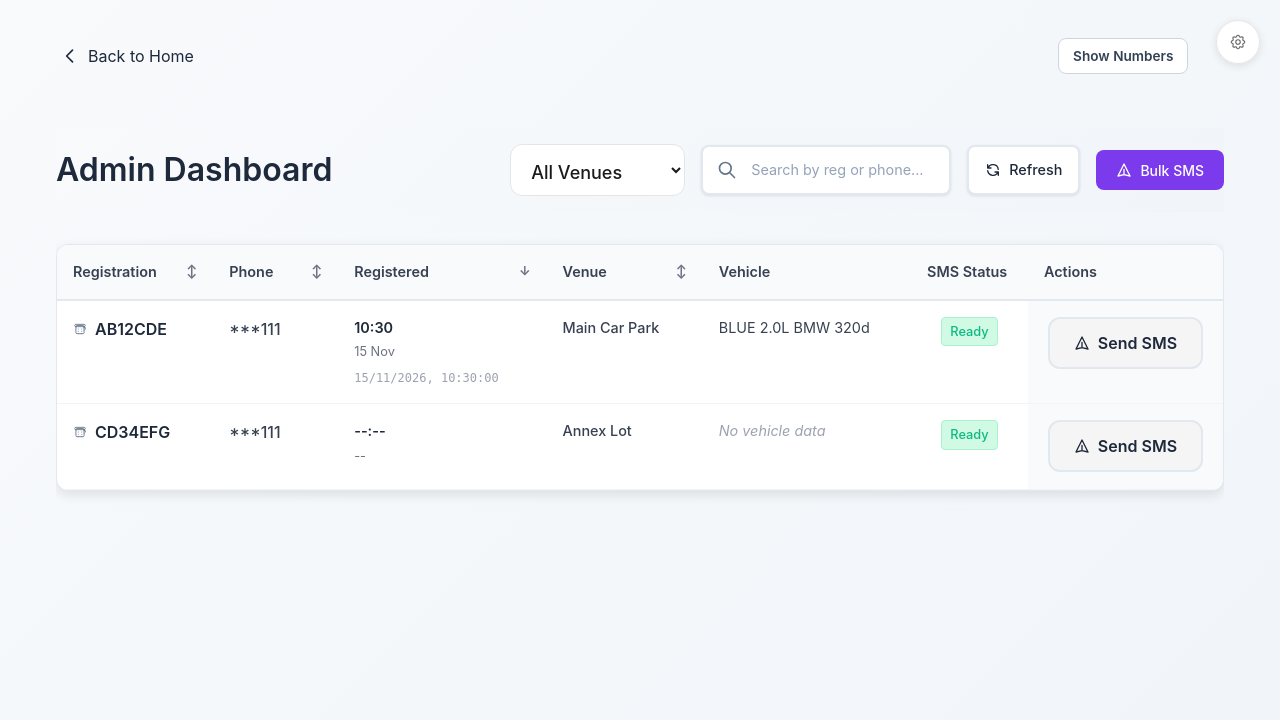
Test: AdminLogin & AdminDashboard › checks response.ok before marking single SMS sent and tracks sent status per row ID even with shared phones
Expected: the text "AB12CDE" is shown, [95,317,167,341]
Click the button "Send SMS" in the row of "AB12CDE". click: {"x": 1125, "y": 343}
box: [1048,317,1203,369]
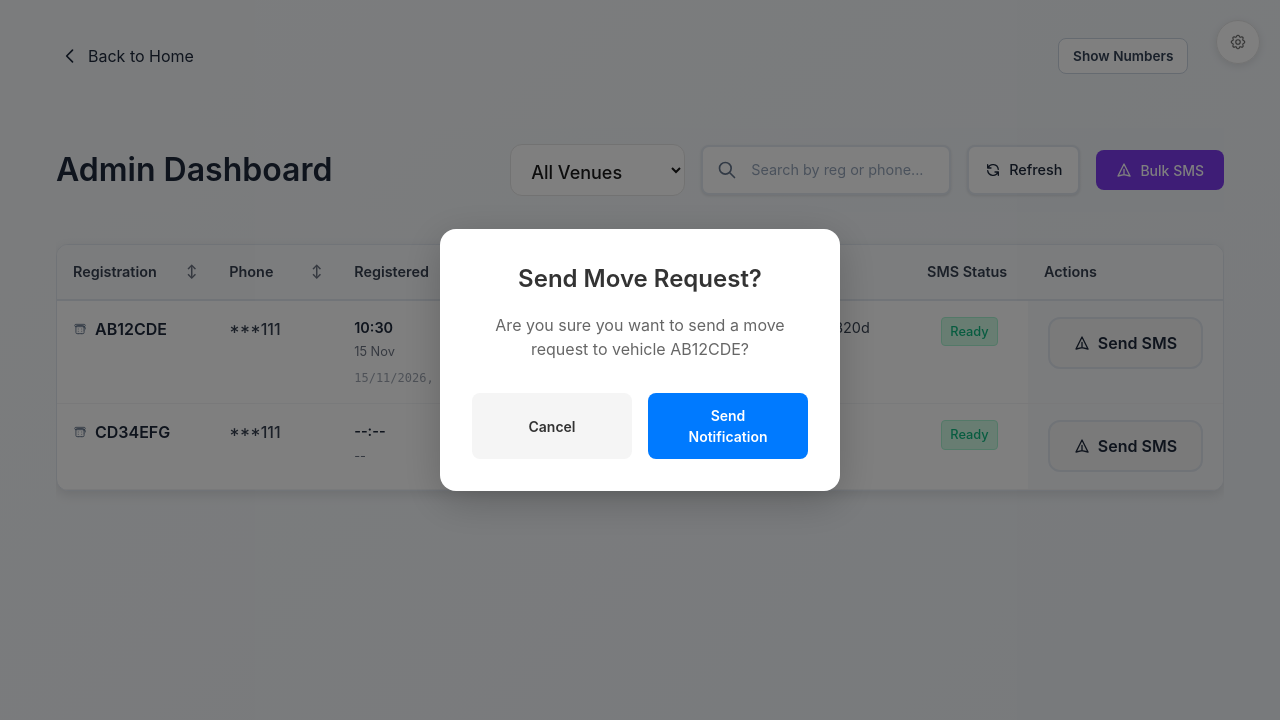
Click the button "Send Notification". click: {"x": 728, "y": 426}
box: [648,393,808,459]
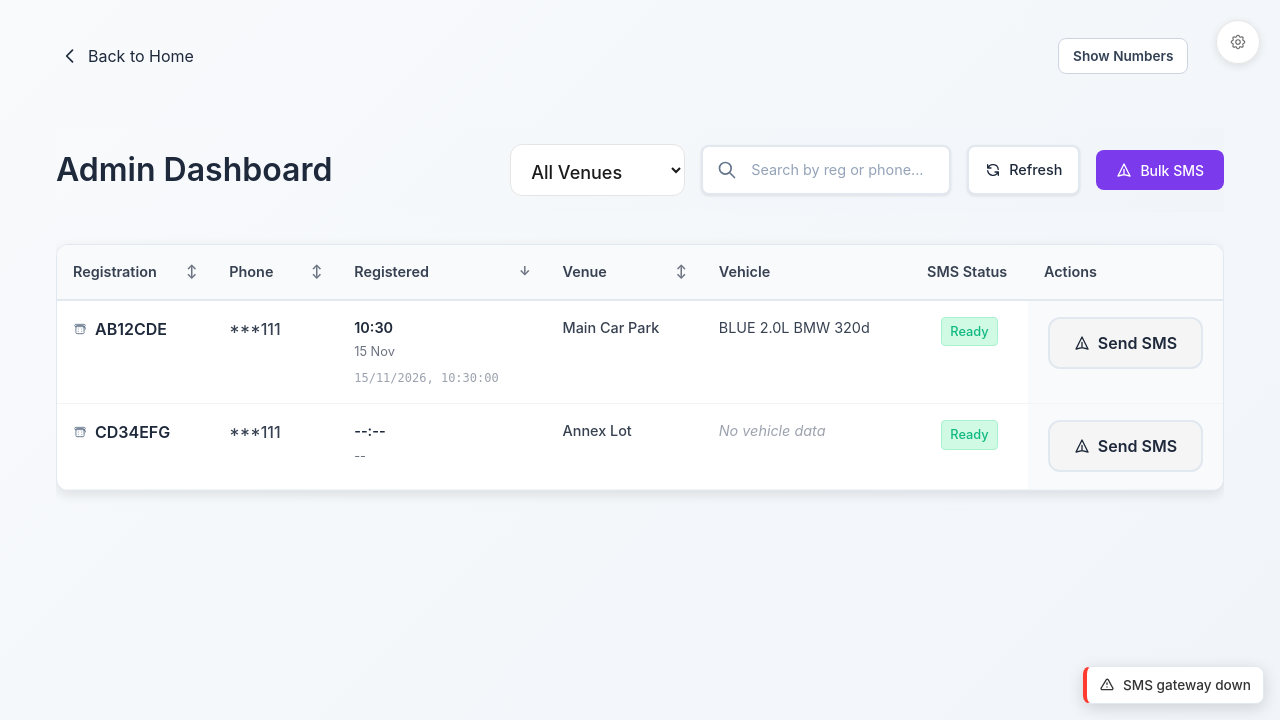
Expected: the text "Sent" is not shown
Result: the text "SMS gateway down" is shown at [1123,675,1251,695]
Click the button "Send SMS" in the row of "AB12CDE". click: {"x": 1125, "y": 343}
box: [1048,317,1203,369]
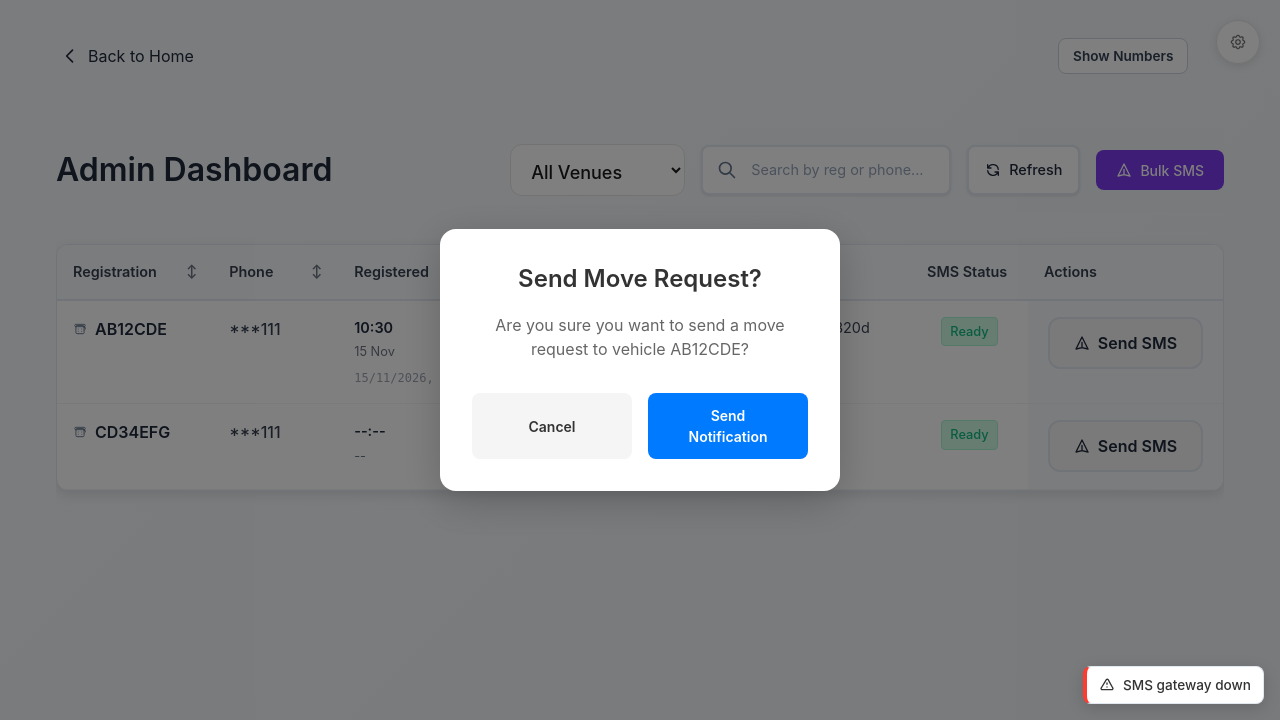
Click the button "Send Notification". click: {"x": 728, "y": 426}
box: [648,393,808,459]
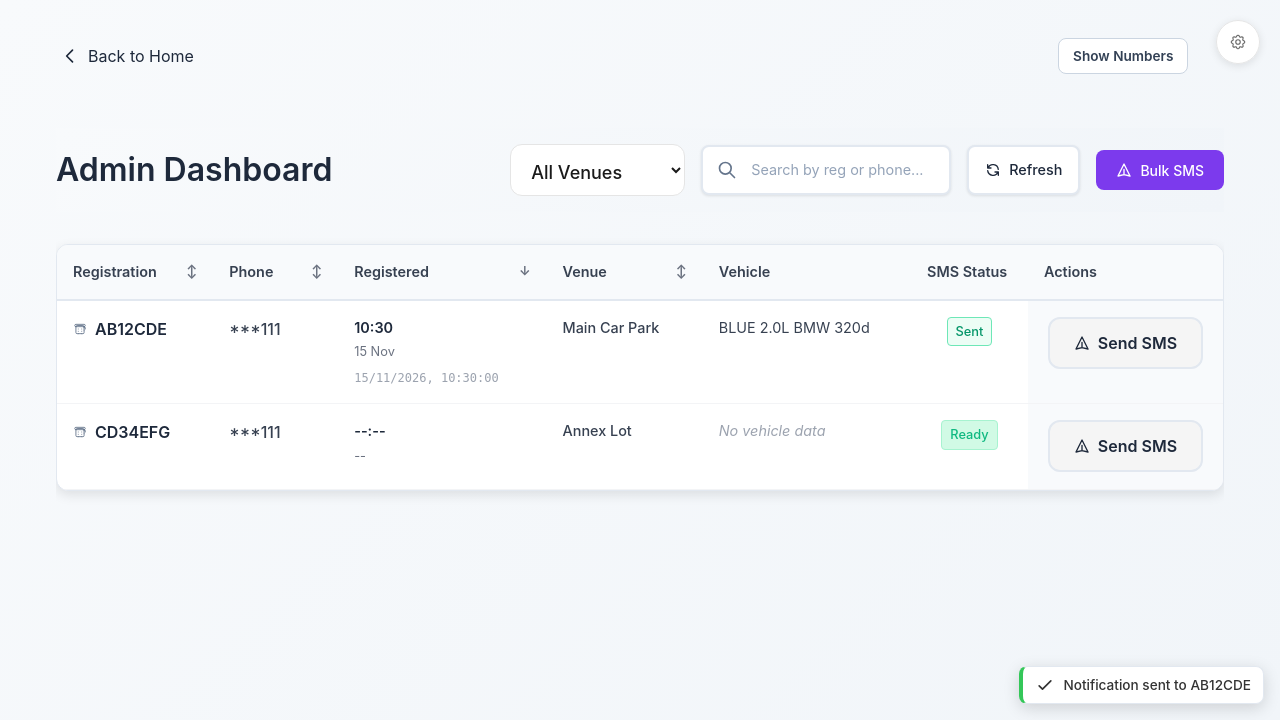
Expected: the text "Sent" is shown once, [947,317,992,346]
Result: the text "Notification sent to AB12CDE" is shown at [1063,675,1251,695]
